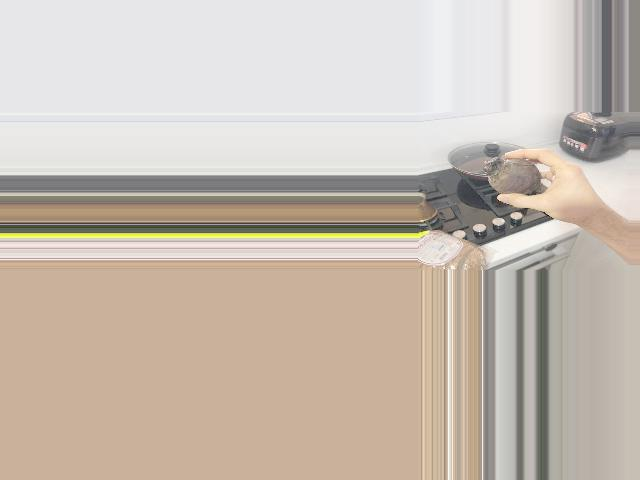beet: (483, 158, 543, 194)
